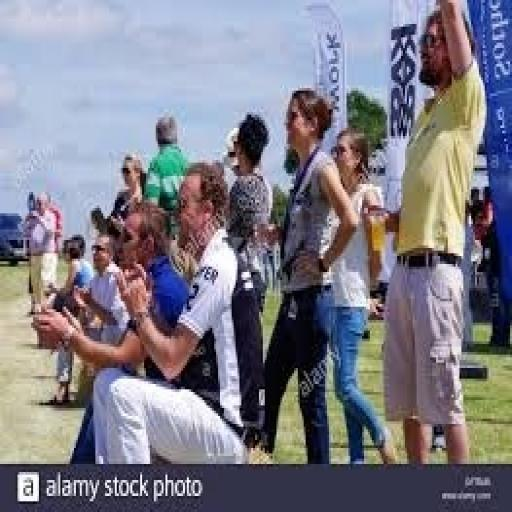clapping: (103, 130, 282, 499), (43, 181, 239, 426)
